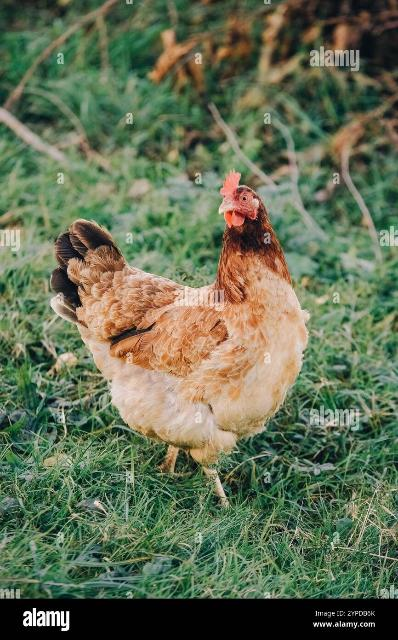Chicken: (51, 166, 314, 503)
